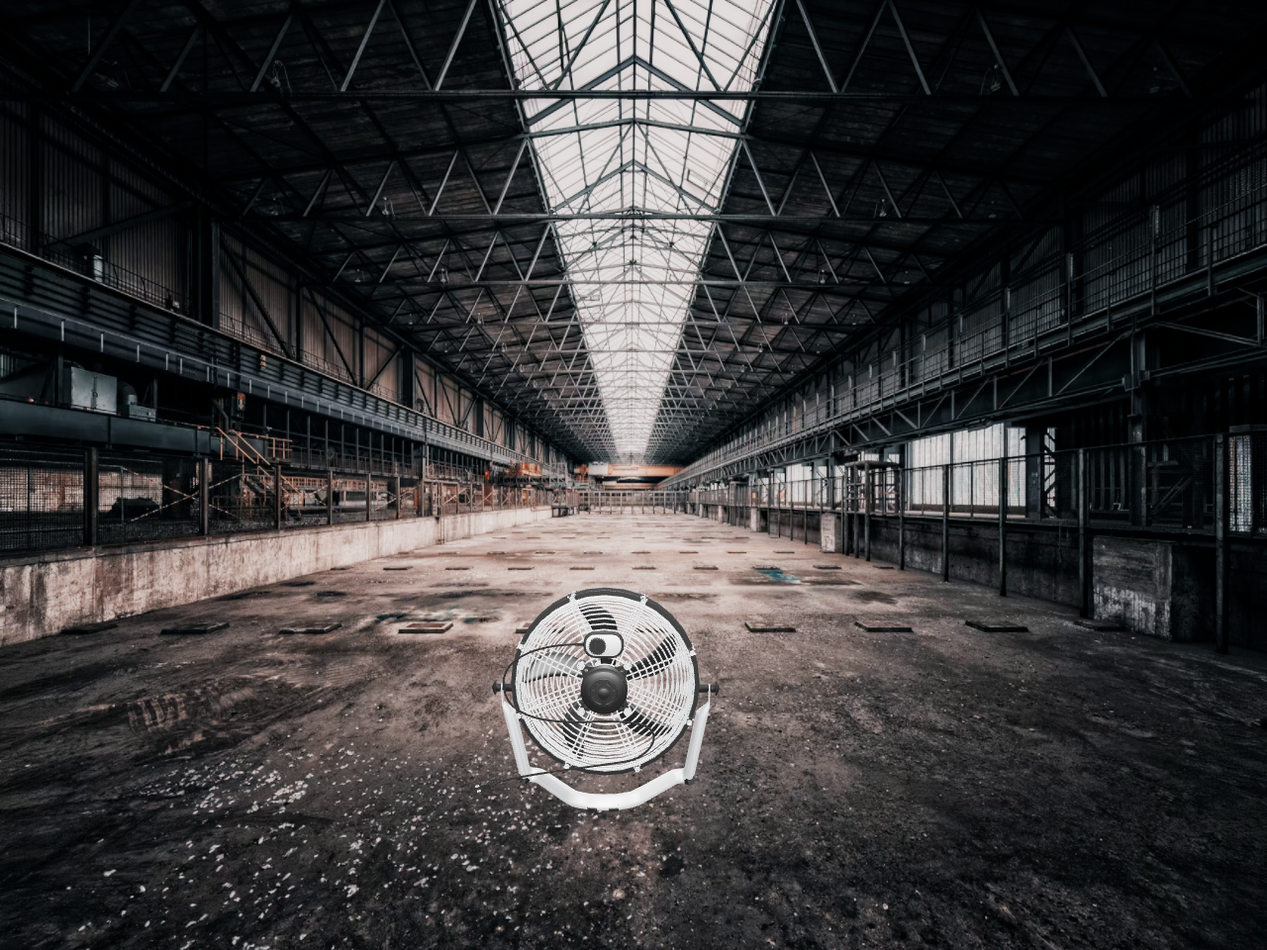FanSanati: (475, 587, 719, 812)
